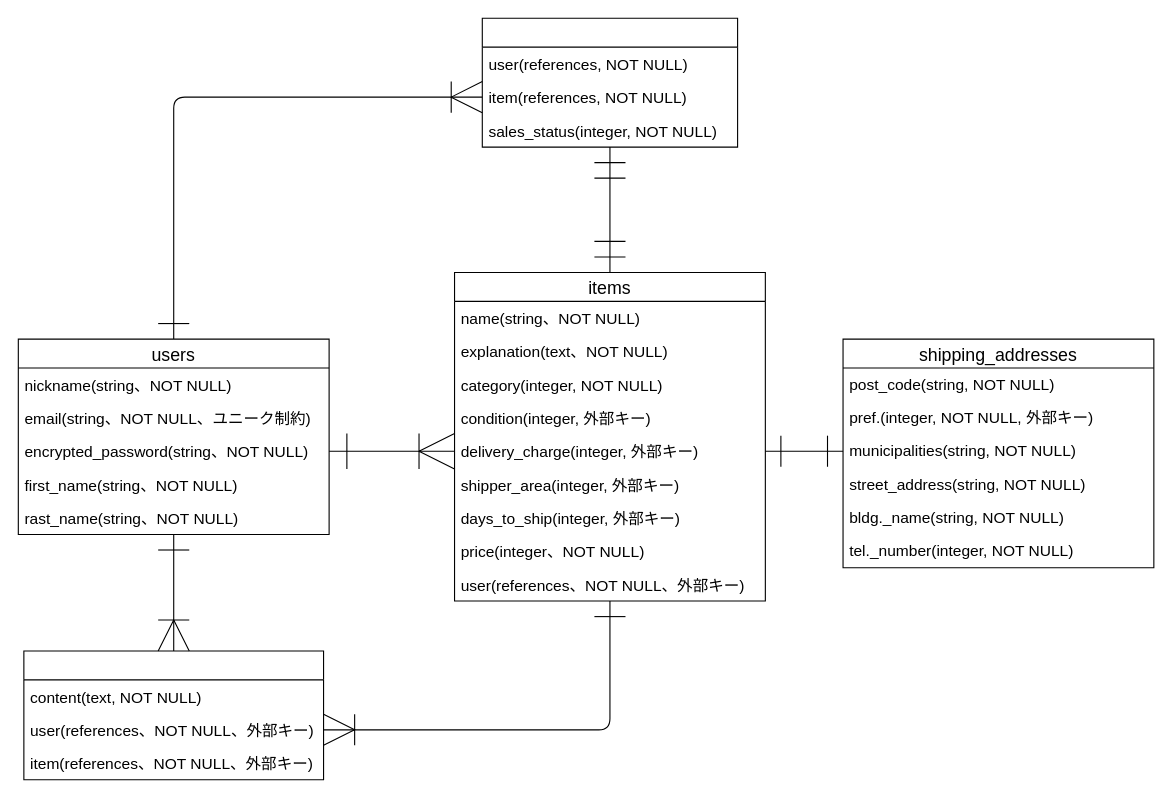
Some shapes in this 1172 by 798 pixel diagram are drawn without their labels. The box of each missing label's shape, as (x1, y1, x2, y2) in pixels:
comments: (23, 650, 324, 780)
purchase_records: (481, 17, 738, 147)
